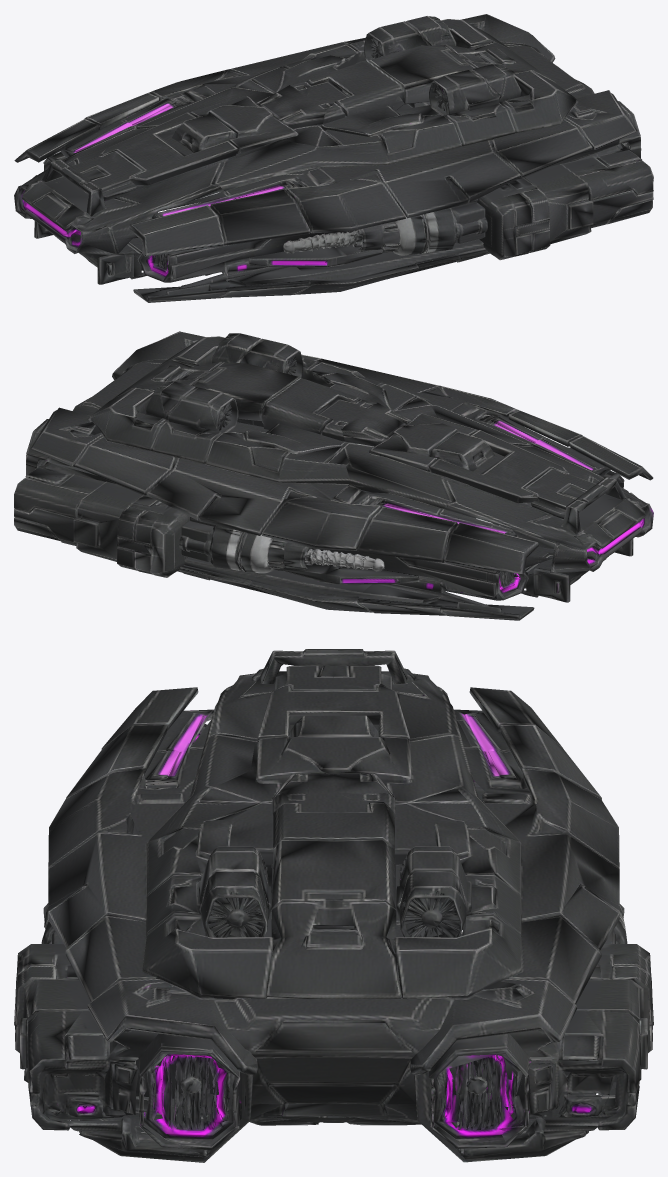
The model's file is excavator_titan_hull.glb.
The picture shows the model from 3 angles, top to bottom: view 1: azimuth 30°, elevation 25°; view 2: azimuth 150°, elevation 25°; view 3: azimuth 270°, elevation 25°; orthographic projection. The views are drawn at different scales.
Parts seen in each view (by area): view 1: excavator_titan_hull; view 2: excavator_titan_hull; view 3: excavator_titan_hull.
Boxes of the visible parts, x1,y1,x2,y2 form: excavator_titan_hull: [14, 14, 653, 302]; excavator_titan_hull: [14, 331, 653, 620]; excavator_titan_hull: [14, 649, 653, 1162].
Size of the model in its own units: 2.35 by 0.578 by 1.6.
Materials: 1 (1 with a texture image).
